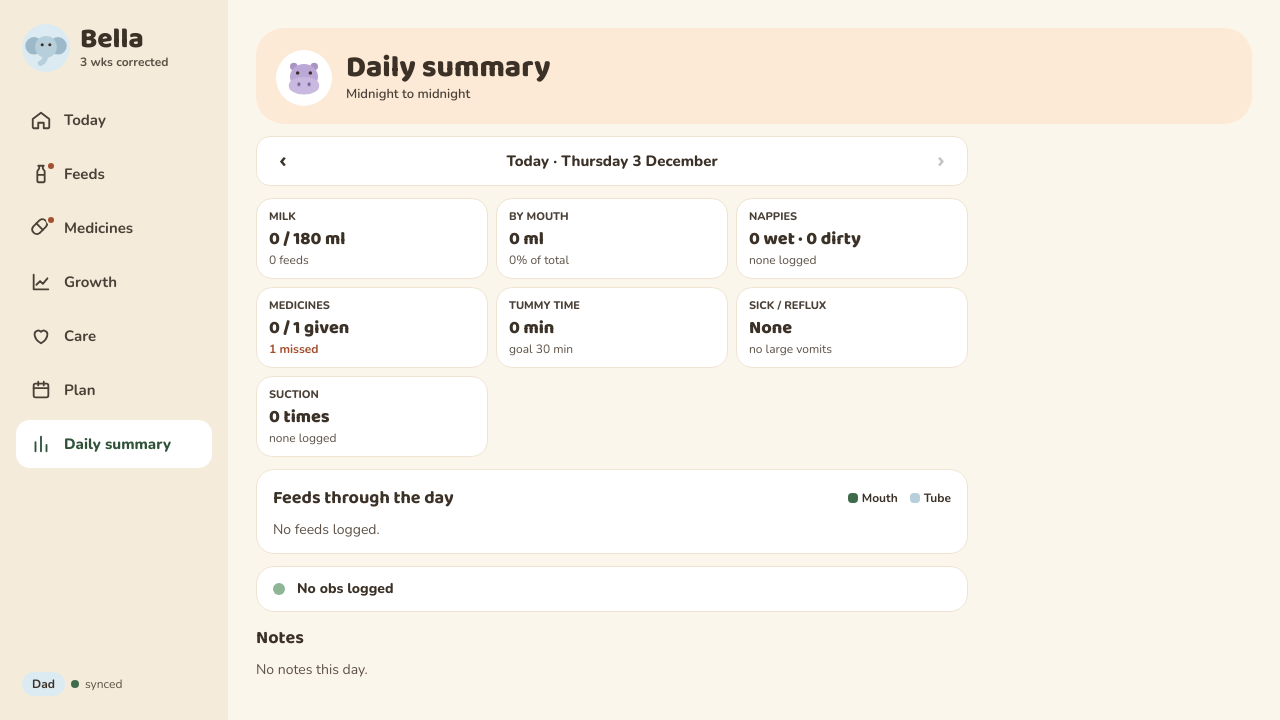
Test case: Daily summary › moves between days but not into the future
Check: the button named "Next day" is disabled, box [919,139,963,183]
Click the button named "Previous day" at (283, 161), box [261,139,305,183]
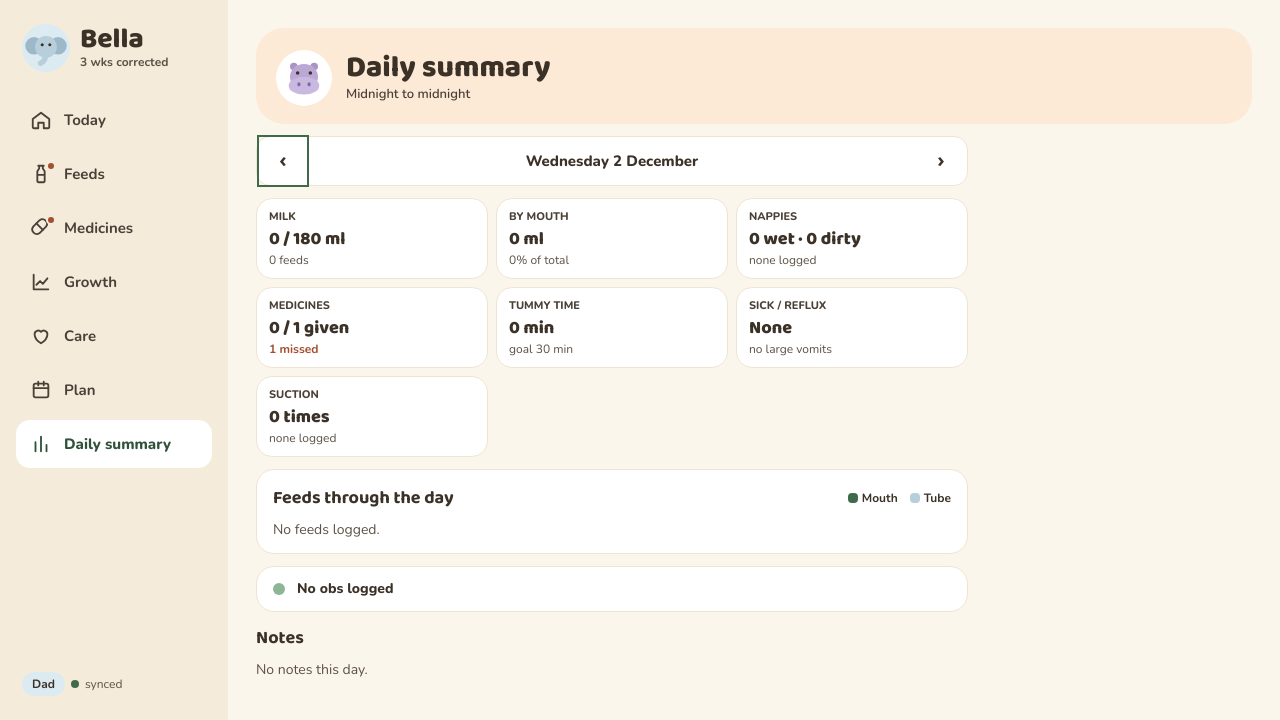
Check: the text "Wednesday 2 December" is shown, box [526,150,698,172]
